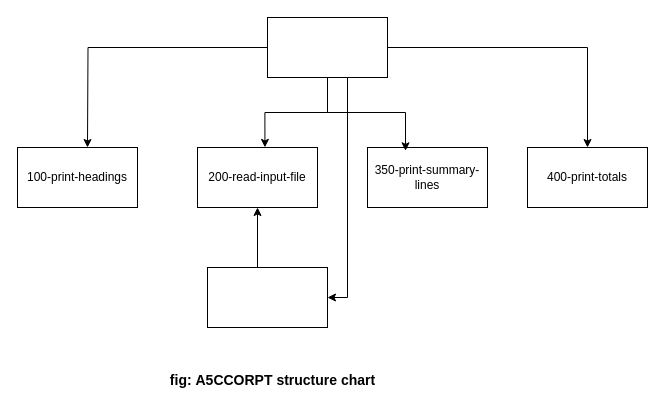
This 665x413 diagram has some shape labels left out. Here are the shapes that lost their labels. From the top down, the centre of each, then its label:
the point at 327,47: 000-main
the point at 267,297: 300-process-records
